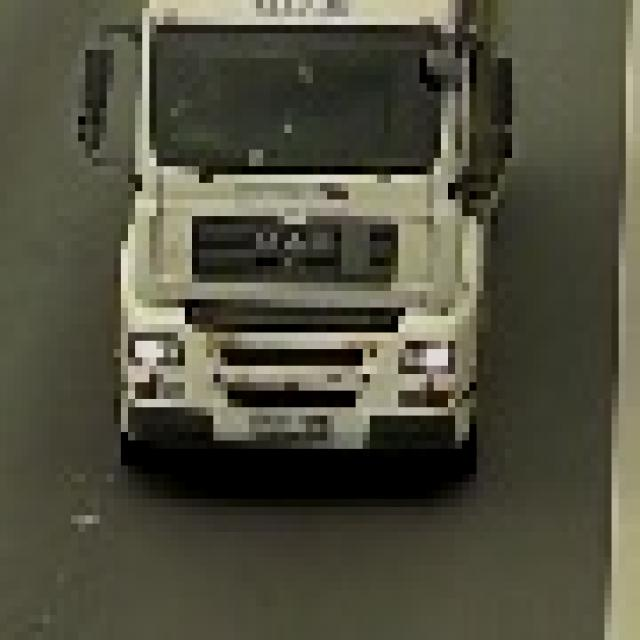TRUCK: (86, 0, 514, 475)
